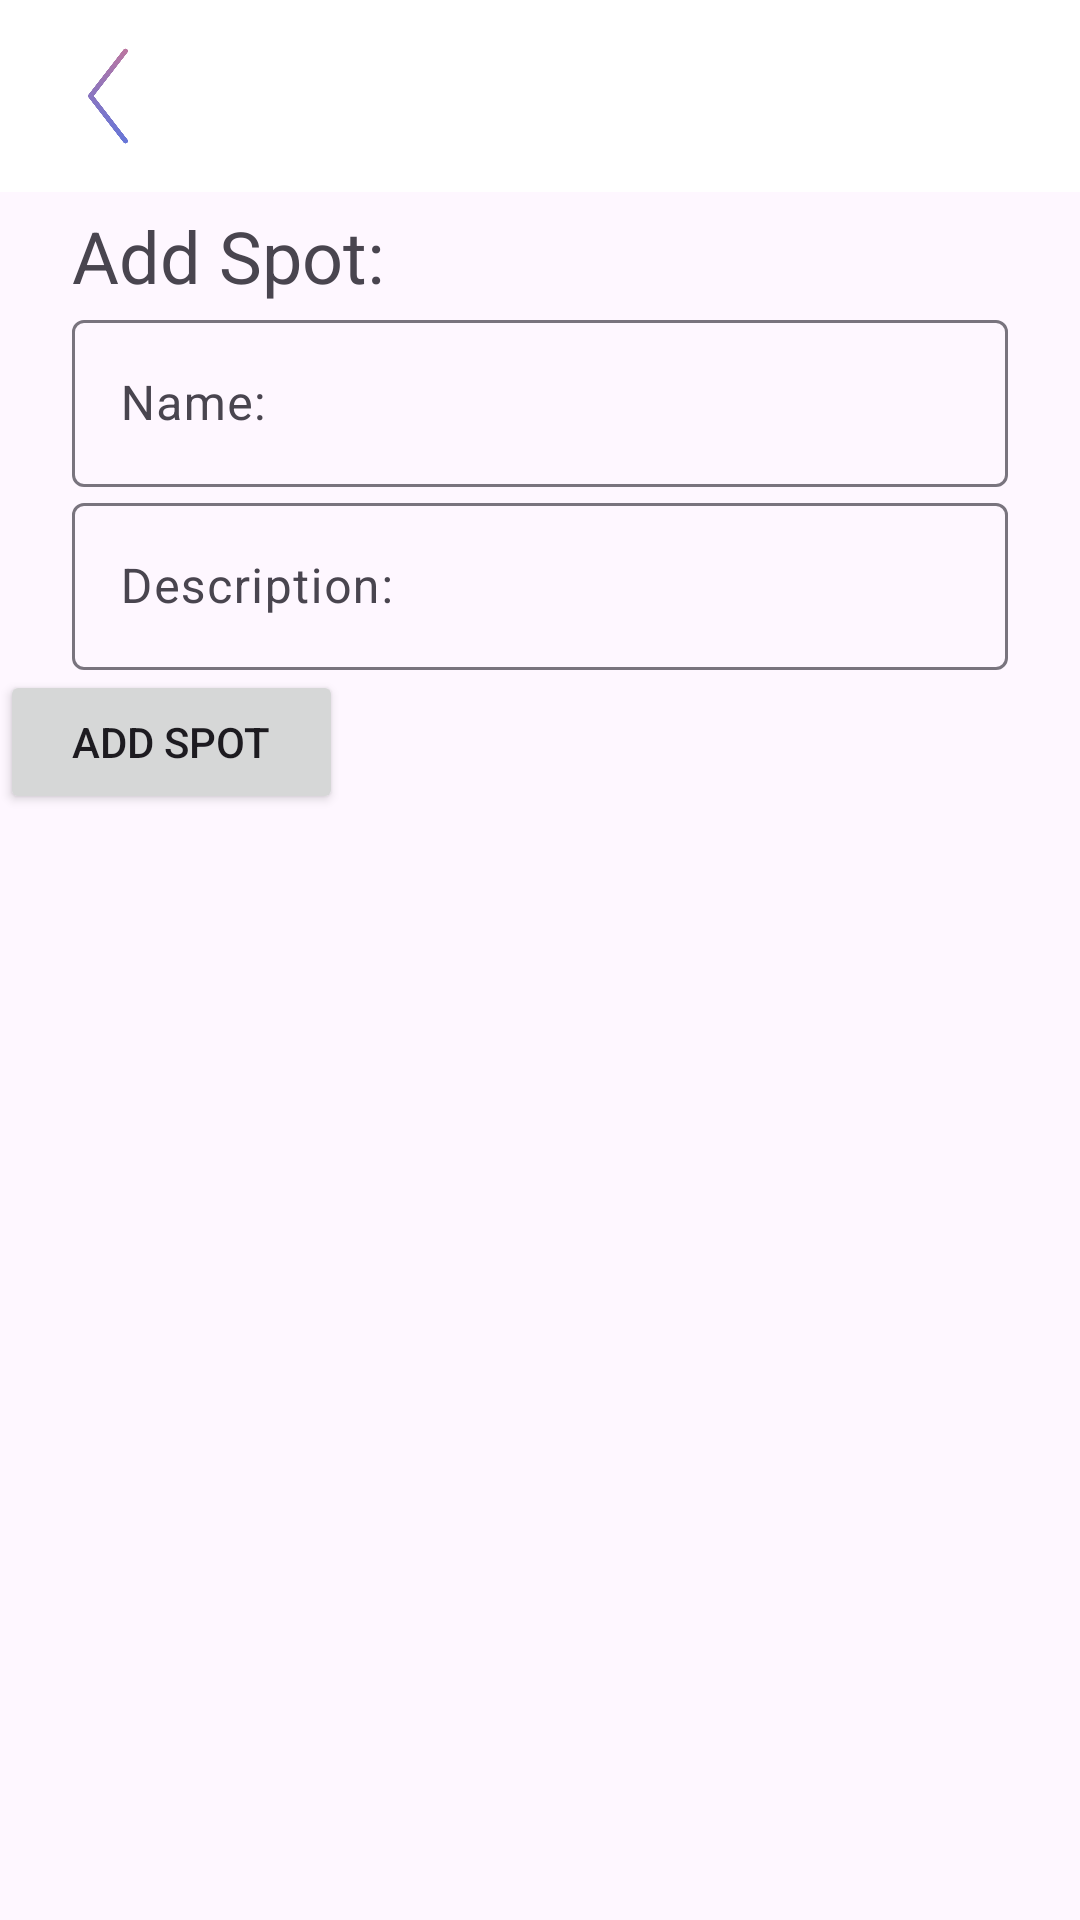

Icon bounding boxes for this 1080 x 1920 phone screenshot, format (x1, y1, x2, y2):
back: (88, 48, 128, 144)
